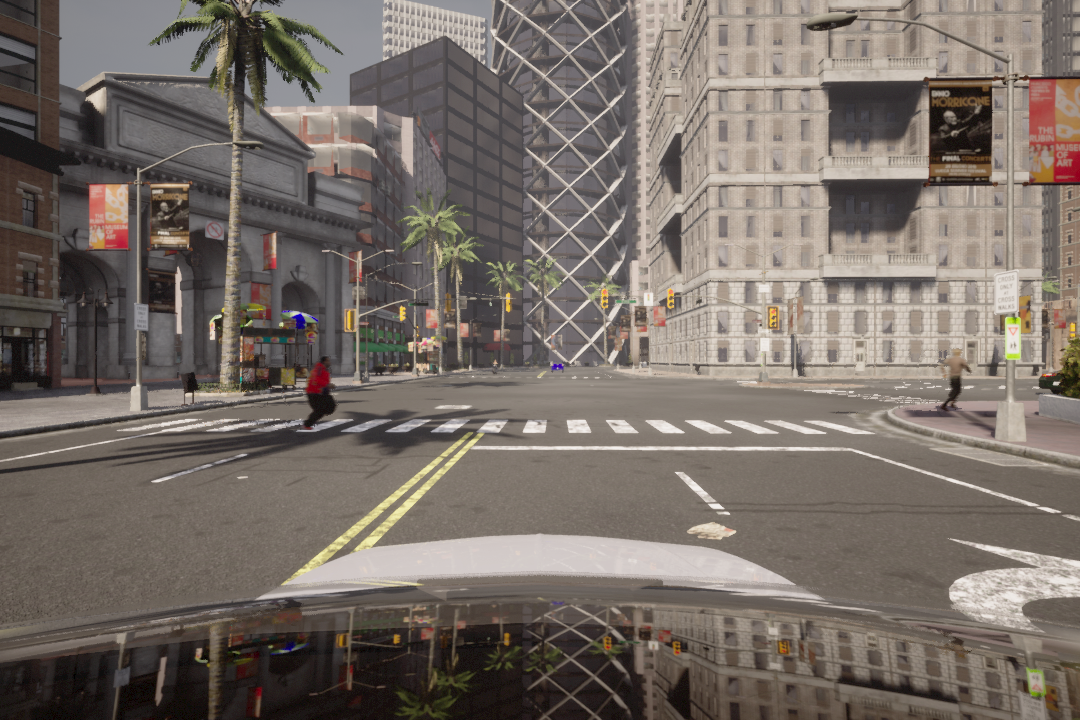TrafficLight: (767, 308, 777, 331), (665, 288, 674, 309), (599, 289, 609, 307)
TrafficSign: (206, 221, 223, 240)
walkside: (125, 407, 876, 440)
